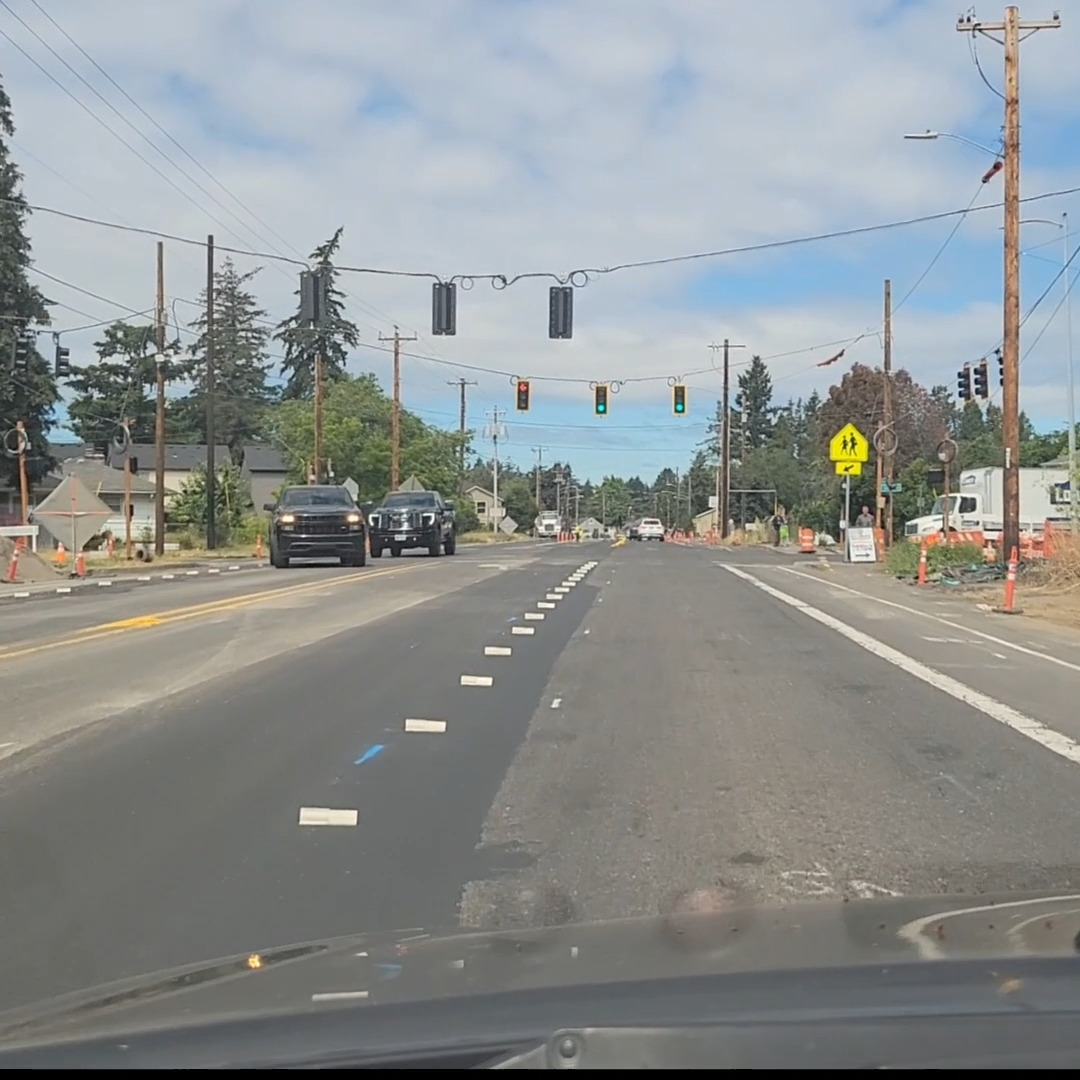car: (263, 484, 369, 567), (365, 490, 457, 558), (626, 517, 664, 541)
crosswalk-sign: (829, 422, 868, 472)
delineator: (1001, 548, 1019, 613), (6, 542, 21, 581), (74, 552, 86, 576), (254, 533, 263, 557)
